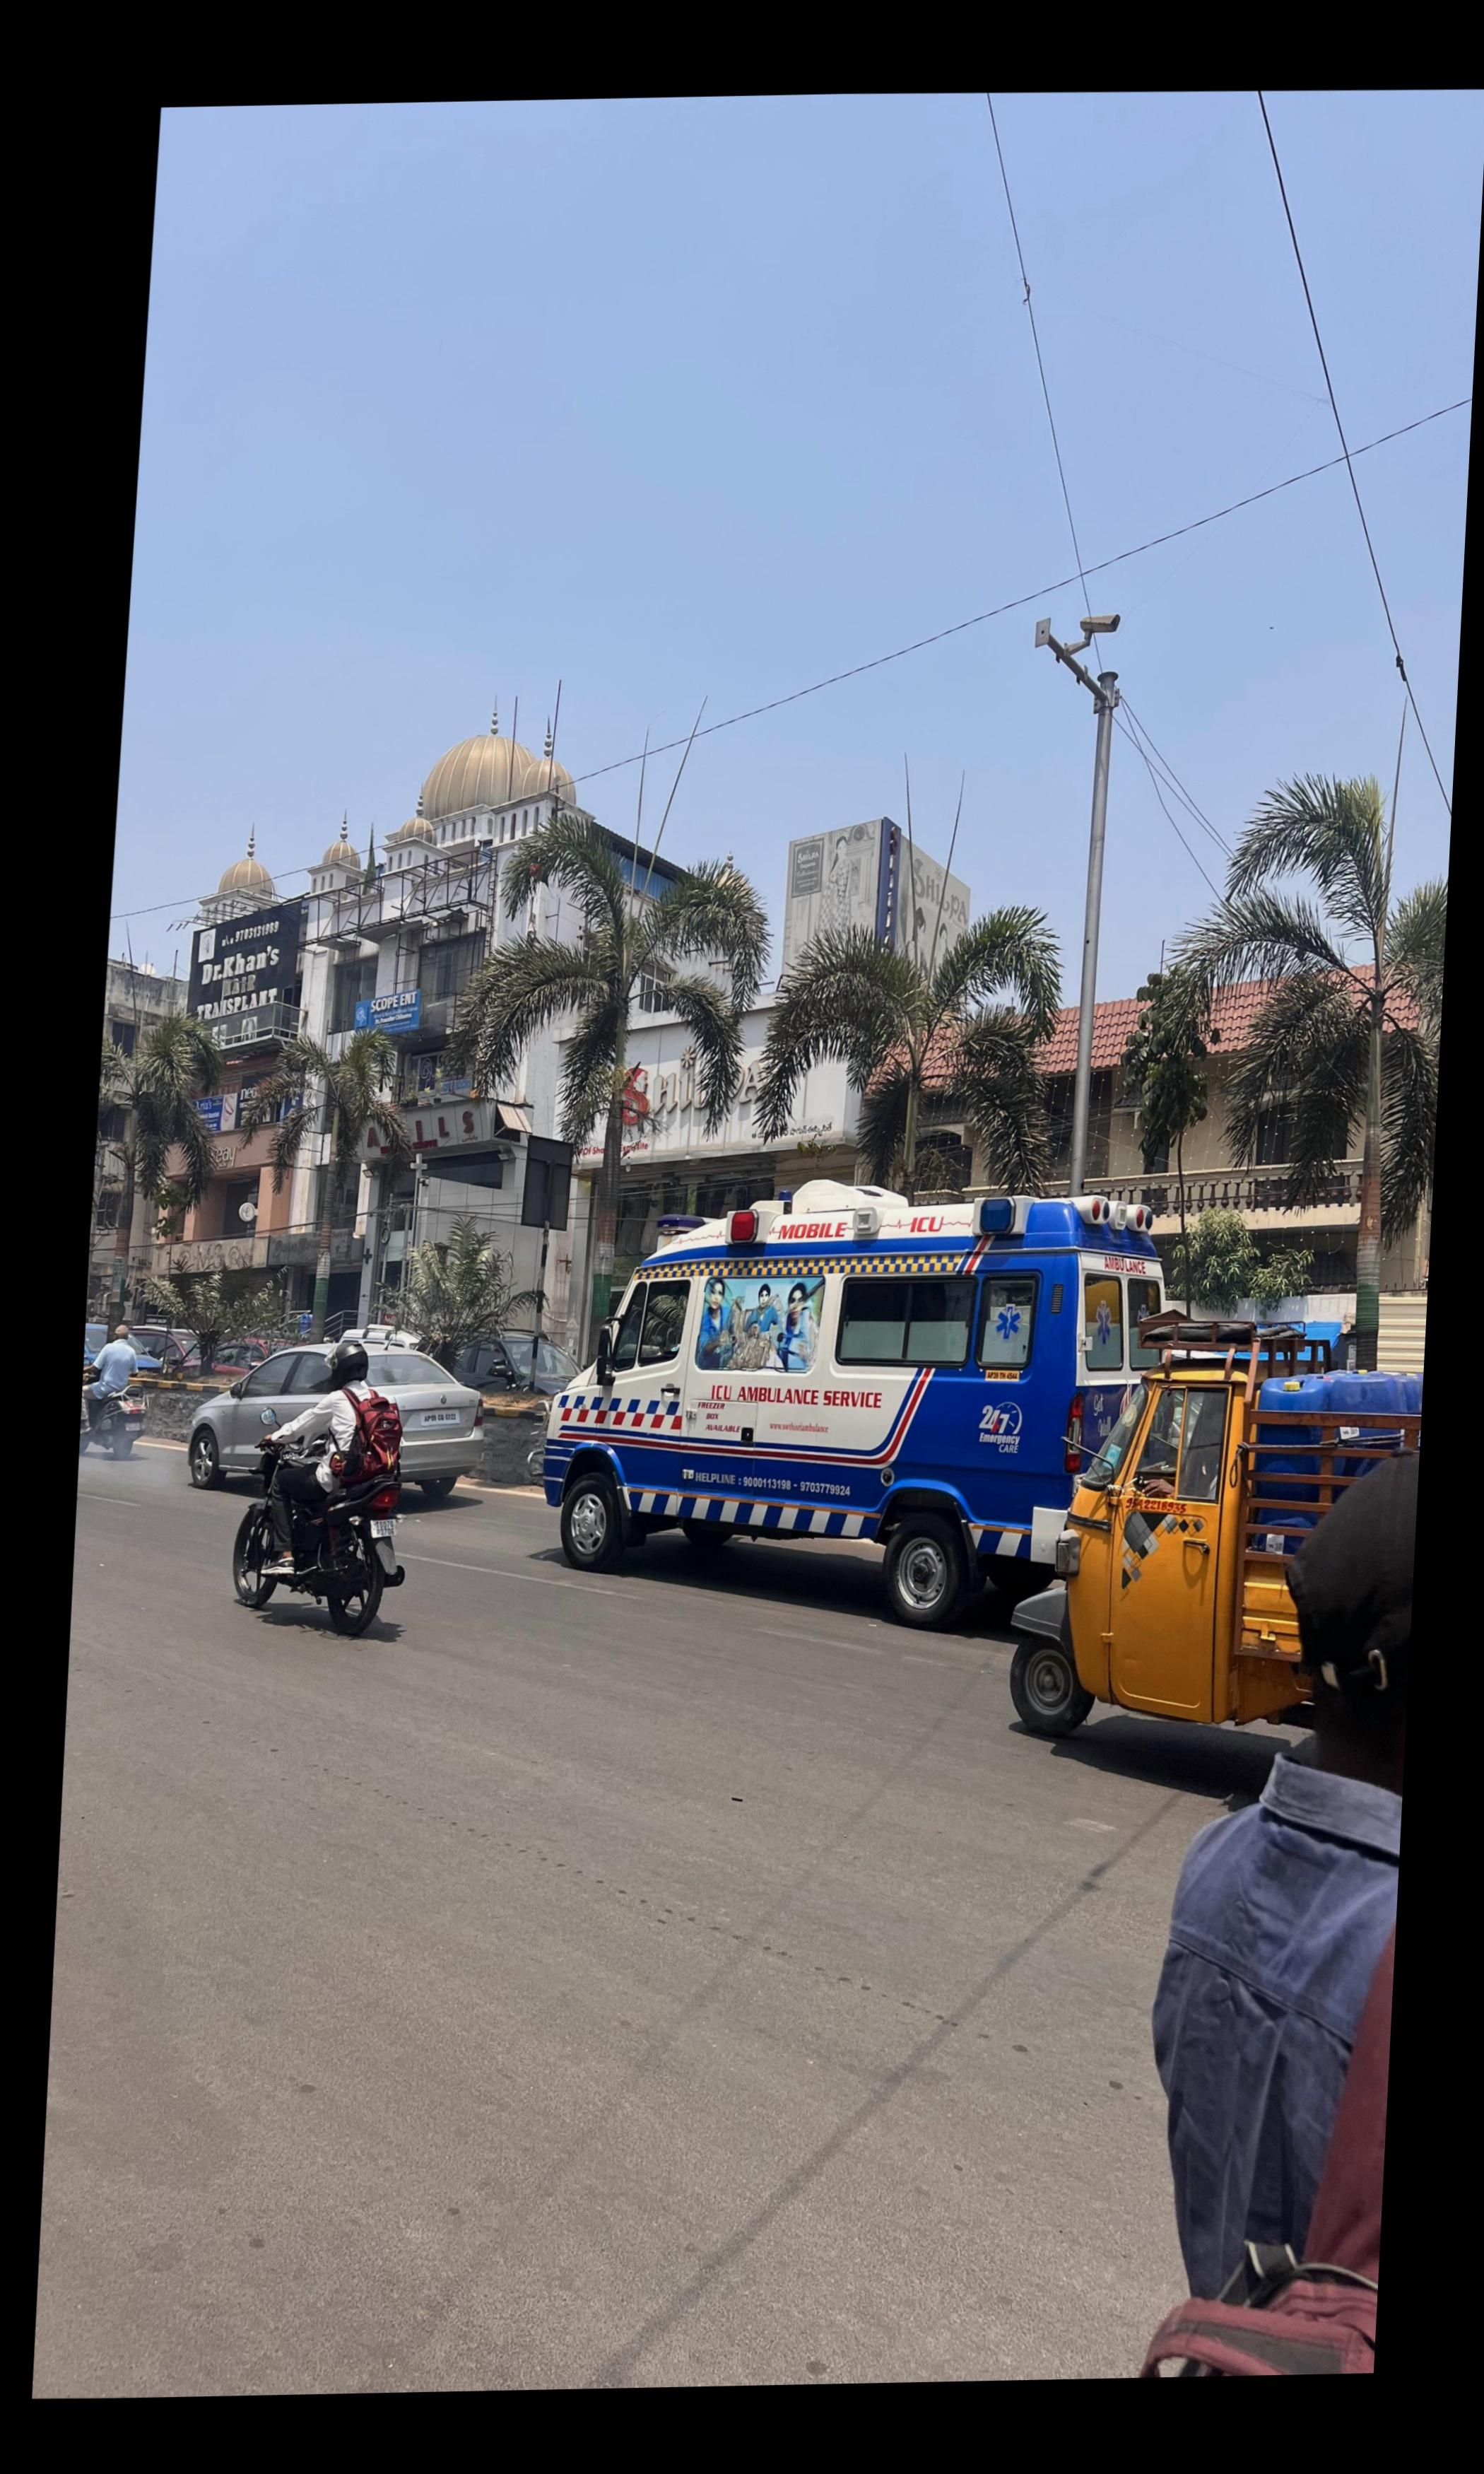ambulance: (541, 1186, 1162, 1629)
